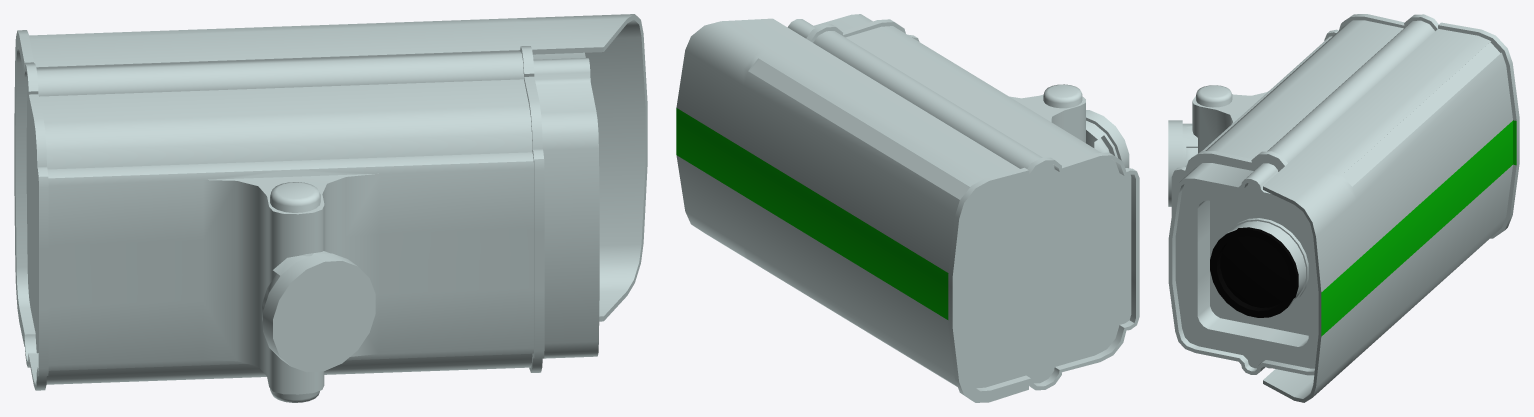
The model's file is camera.obj.
The picture shows the model from 3 angles, left to right: view 1: azimuth 30°, elevation 25°; view 2: azimuth 150°, elevation 25°; view 3: azimuth 270°, elevation 25°; orthographic projection. The views are drawn at different scales.
Parts seen in each view (by area): view 1: Camera; view 2: Camera; view 3: Camera.
Part boxes in pixels (x1,y1,x2,y2): Camera: (14, 14, 647, 402); Camera: (676, 14, 1139, 402); Camera: (1168, 14, 1519, 402).
Size of the model in its own units: 0.1261 by 0.0593 by 0.0882.
